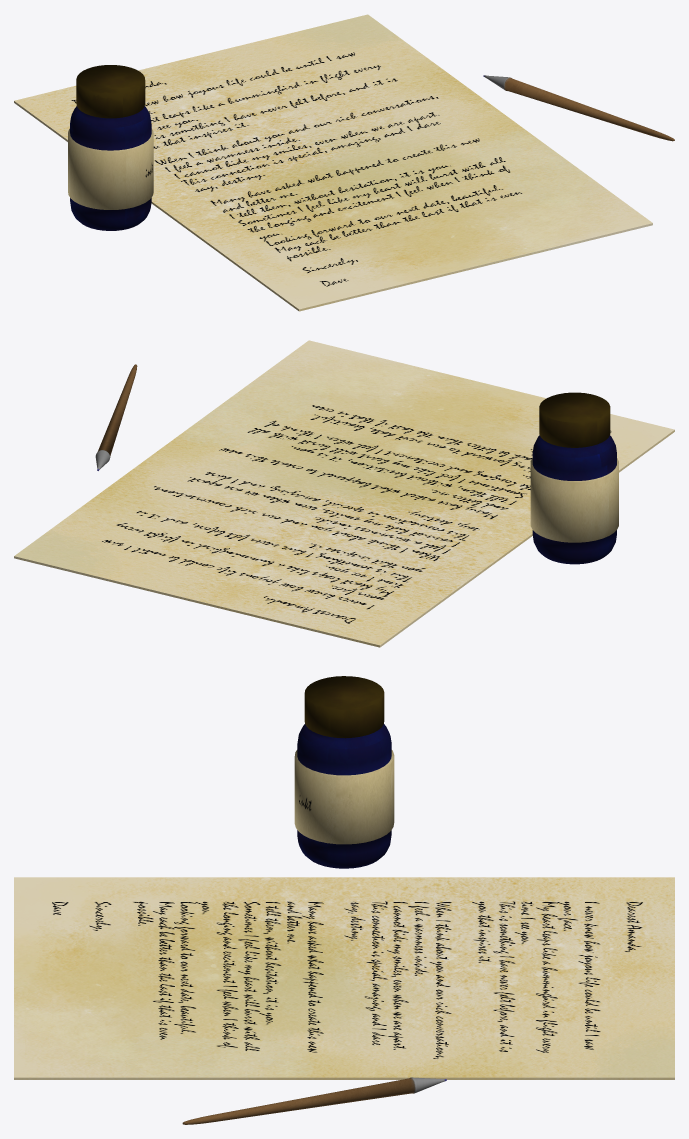
Rendered from letter2.glb.
The picture shows the model from 3 angles, top to bottom: view 1: azimuth 30°, elevation 25°; view 2: azimuth 150°, elevation 25°; view 3: azimuth 270°, elevation 25°; orthographic projection. The views are drawn at different scales.
Visible parts, largest first — view 1: papier, Cylinder.001, Cylinder; view 2: papier, Cylinder.001, Cylinder; view 3: papier, Cylinder.001, Cylinder.
Boxes of the visible parts, x1,y1,x2,y2 form: papier: [14, 14, 652, 311]; Cylinder.001: [68, 65, 153, 230]; Cylinder: [483, 75, 674, 141]; papier: [14, 340, 674, 647]; Cylinder.001: [530, 392, 618, 564]; Cylinder: [95, 364, 137, 470]; papier: [14, 877, 674, 1079]; Cylinder.001: [294, 676, 394, 868]; Cylinder: [182, 1077, 446, 1124].
Size of the model in its own units: 1504 by 376 by 1397.
Materials: 3 (3 with a texture image).
